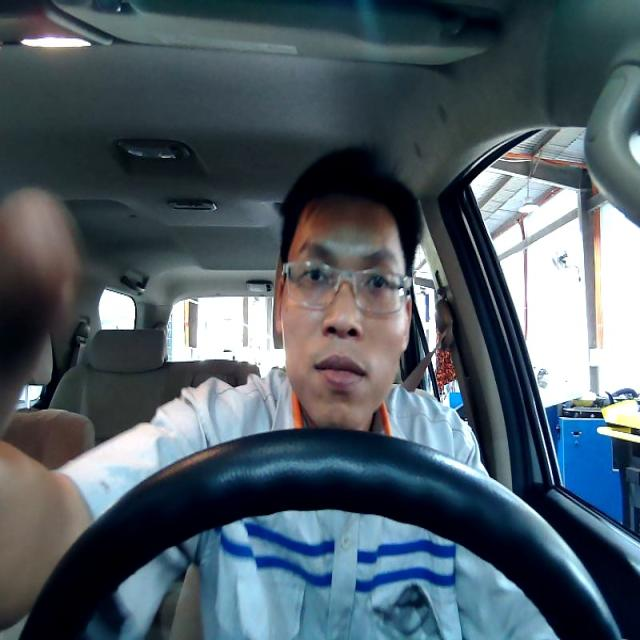focused: (274, 193, 412, 431)
